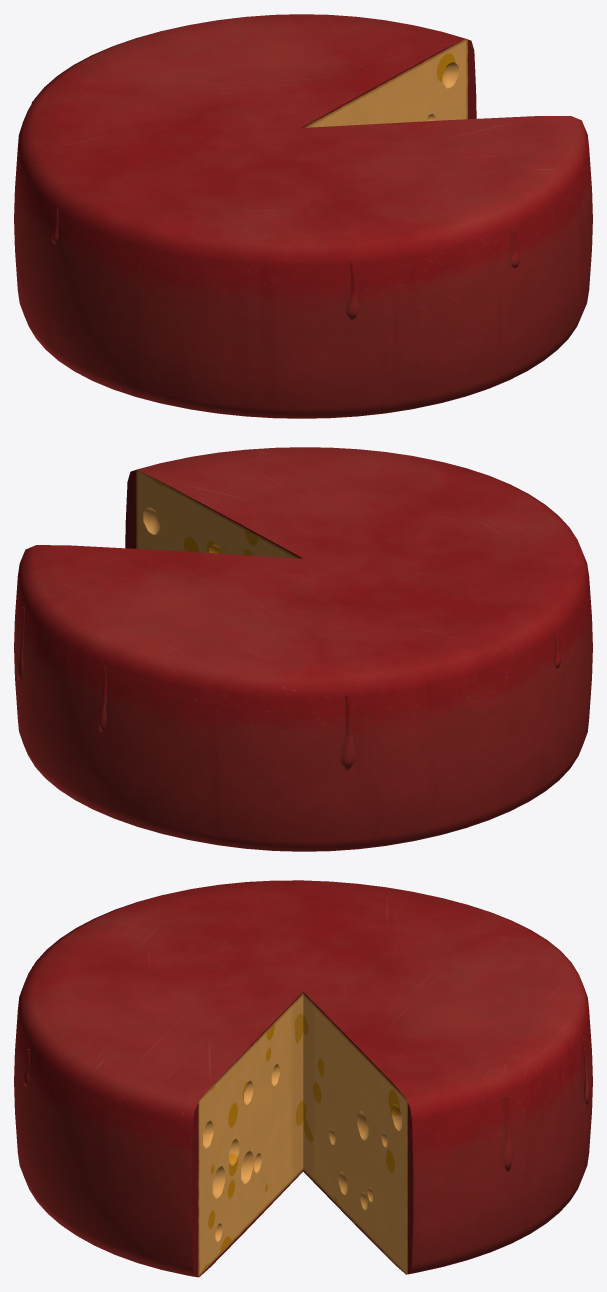
The model's file is SM_FlagCheese_Cheddar.glb.
The picture shows the model from 3 angles, top to bottom: view 1: azimuth 30°, elevation 25°; view 2: azimuth 150°, elevation 25°; view 3: azimuth 270°, elevation 25°; orthographic projection.
Visible parts, largest first — view 1: SM_FlagCheese_Cheddar; view 2: SM_FlagCheese_Cheddar; view 3: SM_FlagCheese_Cheddar.
Boxes of the visible parts, x1,y1,x2,y2 form: SM_FlagCheese_Cheddar: (14,14,592,418); SM_FlagCheese_Cheddar: (14,447,592,851); SM_FlagCheese_Cheddar: (14,880,592,1277).
Size of the model in its own units: 1.17 by 0.42 by 1.21.
1 material, 1 textured.
